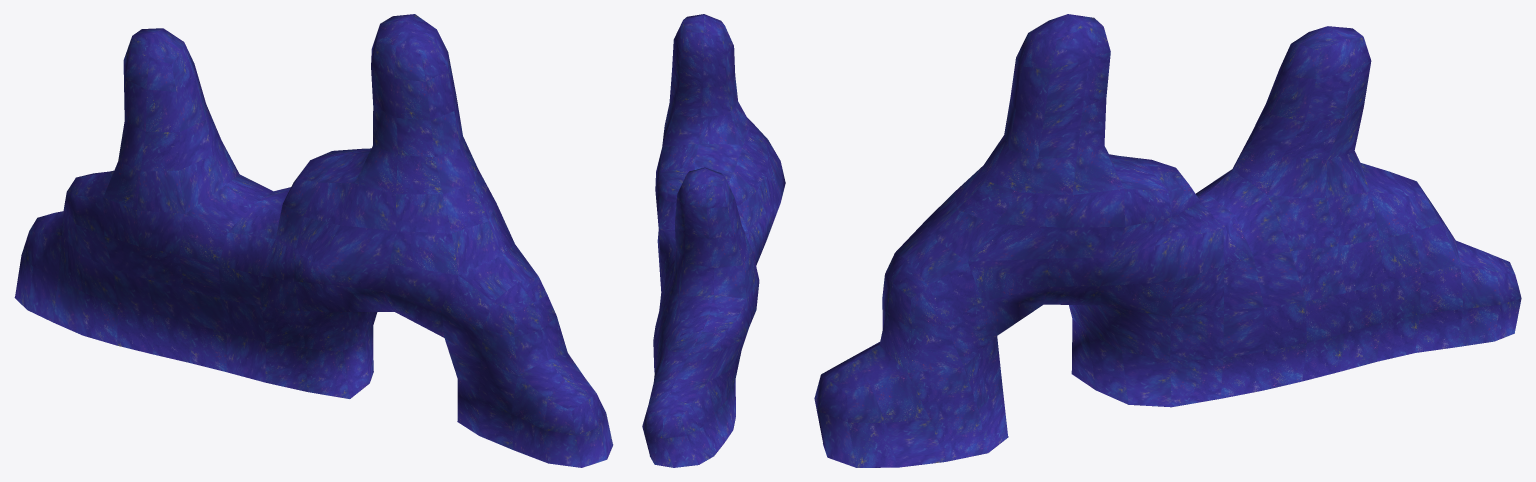
Rendered from object_76_lev3.glb.
3 views of the same model, side by side, from view 1: azimuth 30°, elevation 25°; view 2: azimuth 150°, elevation 25°; view 3: azimuth 270°, elevation 25° (orthographic). The views are drawn at different scales.
Parts seen in each view (by area): view 1: object_76_lev3; view 2: object_76_lev3; view 3: object_76_lev3.
Part boxes in pixels (x1,y1,x2,y2): object_76_lev3: (14,14,613,467); object_76_lev3: (642,14,785,467); object_76_lev3: (814,14,1521,467).
Size of the model in its own units: 22.07 by 26.22 by 42.2.
1 material, 1 textured.
